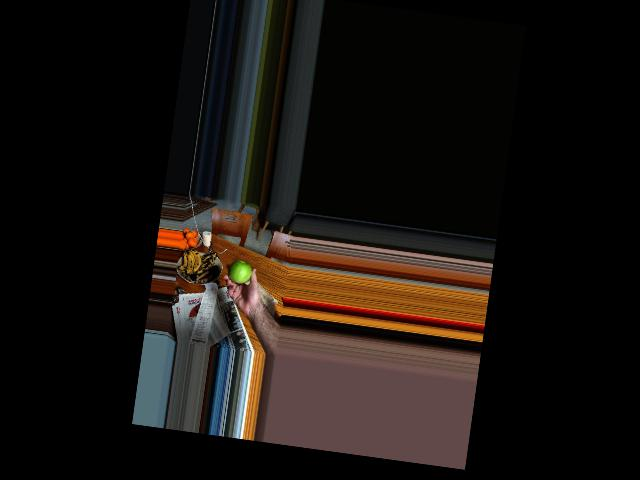apple: (225, 259, 252, 286)
